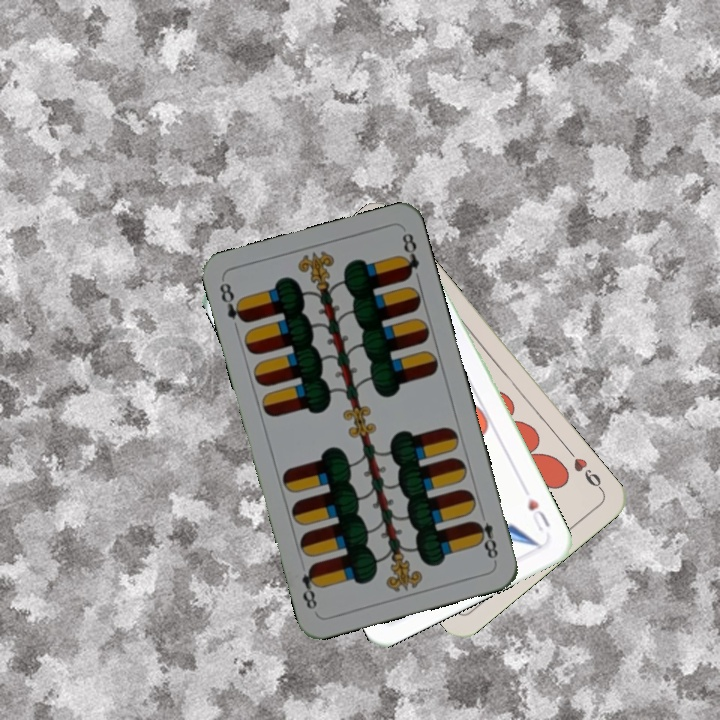E8: (215, 278, 250, 326), (470, 517, 501, 564)
H9: (564, 445, 606, 495)
HU: (524, 494, 553, 535)
